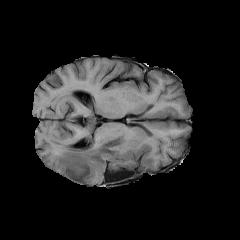glioma: (57, 131, 129, 182)
